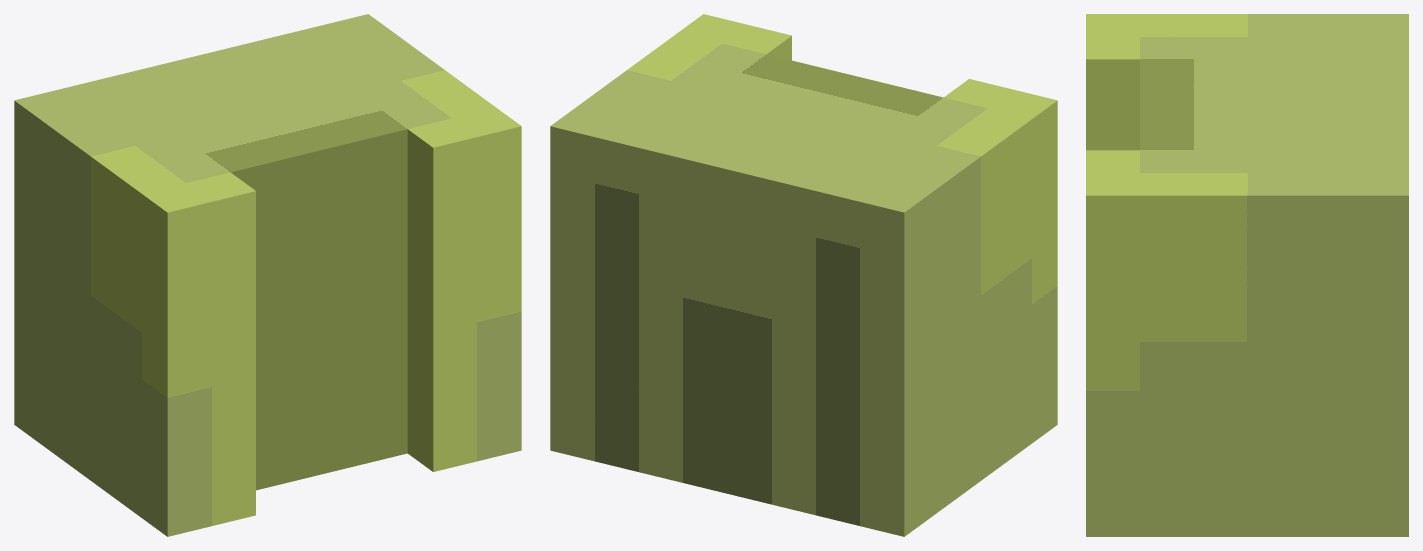
The model's file is Chest_3.fbx.
3 views of the same model, side by side, from view 1: azimuth 30°, elevation 25°; view 2: azimuth 150°, elevation 25°; view 3: azimuth 270°, elevation 25° (orthographic). The views are drawn at different scales.
Visible parts, largest first — view 1: Chest_3; view 2: Chest_3; view 3: Chest_3.
Boxes of the visible parts, <box> form: Chest_3: <box>14,14,521,536</box>; Chest_3: <box>550,14,1057,536</box>; Chest_3: <box>1086,14,1408,536</box>.
Size of the model in its own units: 8 by 7 by 6.
1 material, 1 textured.
